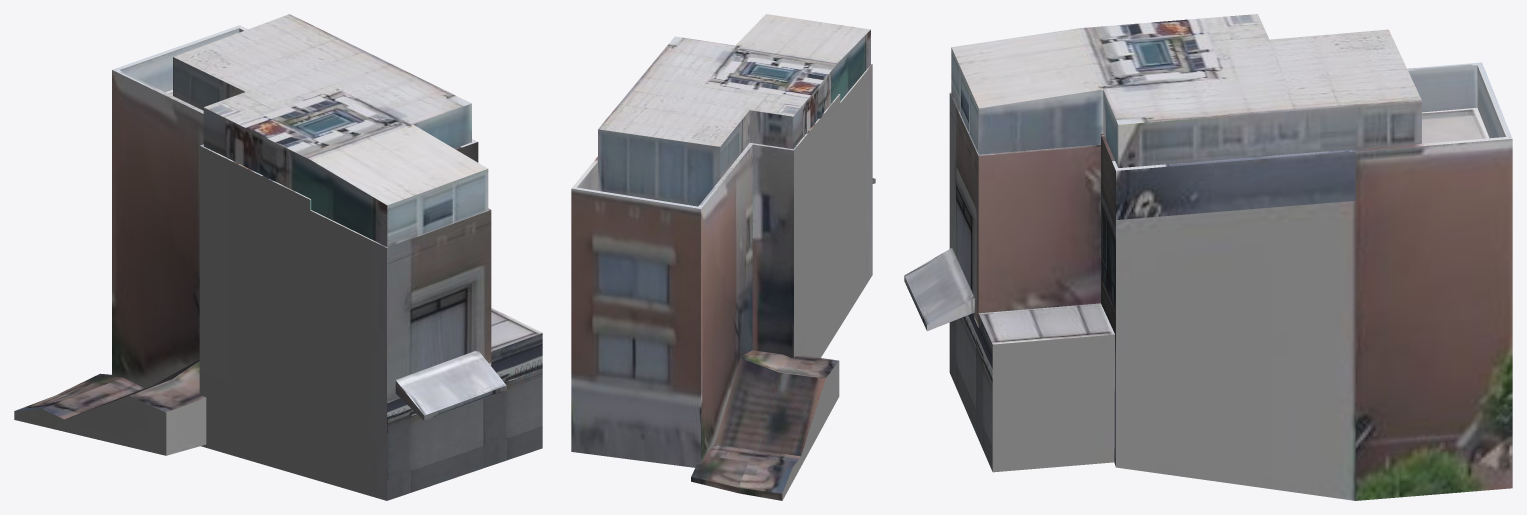
3 views of the same model, side by side, from view 1: azimuth 30°, elevation 25°; view 2: azimuth 150°, elevation 25°; view 3: azimuth 270°, elevation 25° (orthographic). The views are drawn at different scales.
Parts seen in each view (by area): view 1: B281004032901063A0; view 2: B281004032901063A0; view 3: B281004032901063A0.
Part boxes in pixels (<box>): B281004032901063A0: <box>14,14,542,500</box>; B281004032901063A0: <box>571,14,875,500</box>; B281004032901063A0: <box>904,14,1512,500</box>.
Bounding box in the file's own units: 10.12 × 11.48 × 15.66.
1 material, 1 textured.
